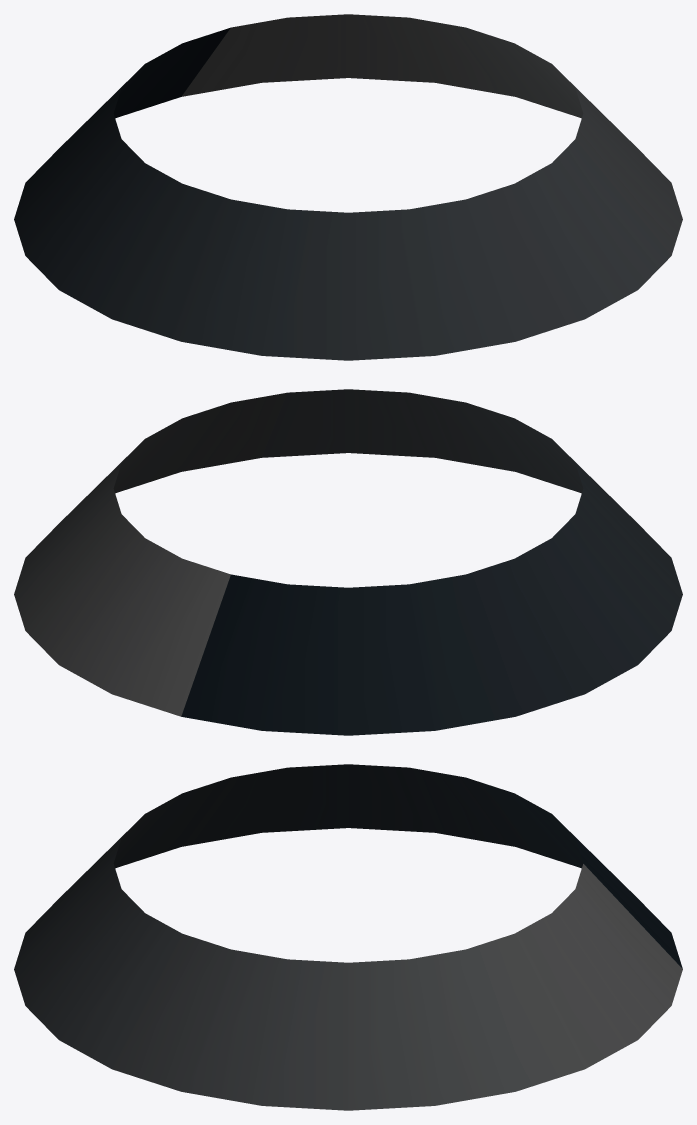
File: Wave.FBX
3 views of the same model, one above another, from view 1: azimuth 30°, elevation 25°; view 2: azimuth 150°, elevation 25°; view 3: azimuth 270°, elevation 25° (orthographic).
Parts seen in each view (by area): view 1: Cone001; view 2: Cone001; view 3: Cone001.
Part boxes in pixels (x1,y1,x2,y2): Cone001: (14,14,682,360); Cone001: (14,389,682,735); Cone001: (14,764,682,1110).
Size of the model in its own units: 6.98 by 6.98 by 1.22.
